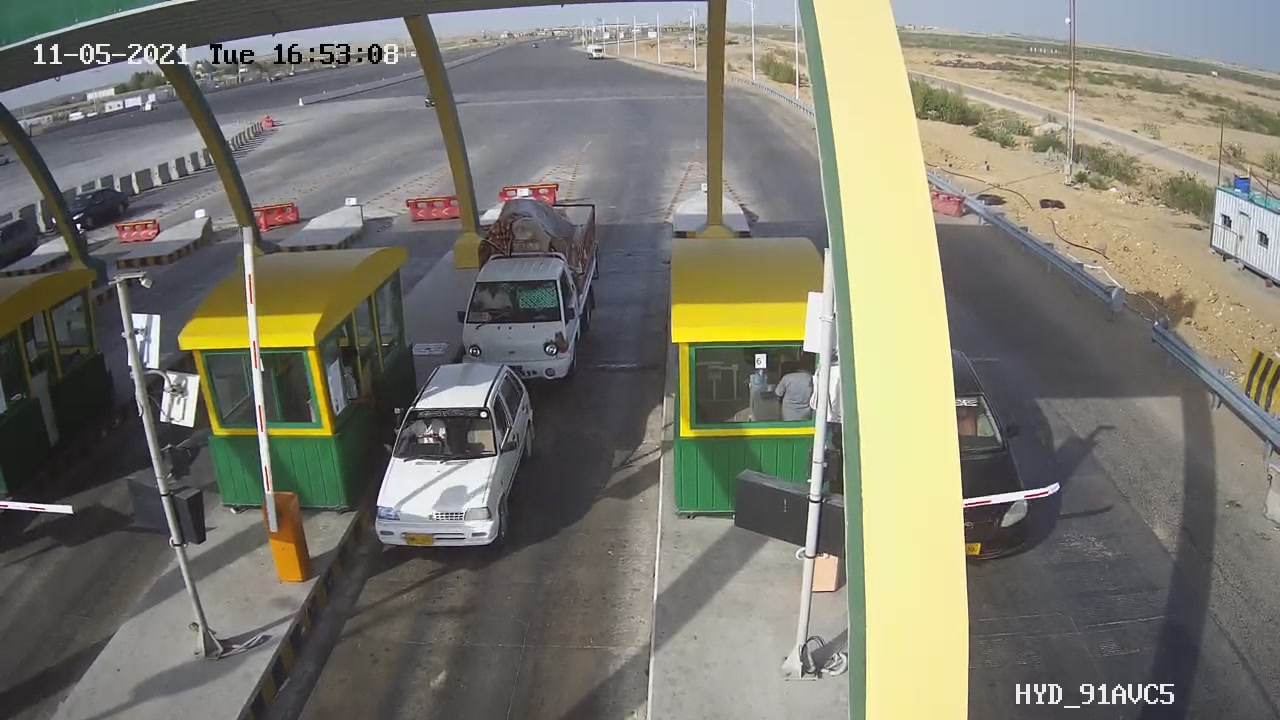F1: (355, 351, 549, 562)
F2: (461, 195, 607, 385)
